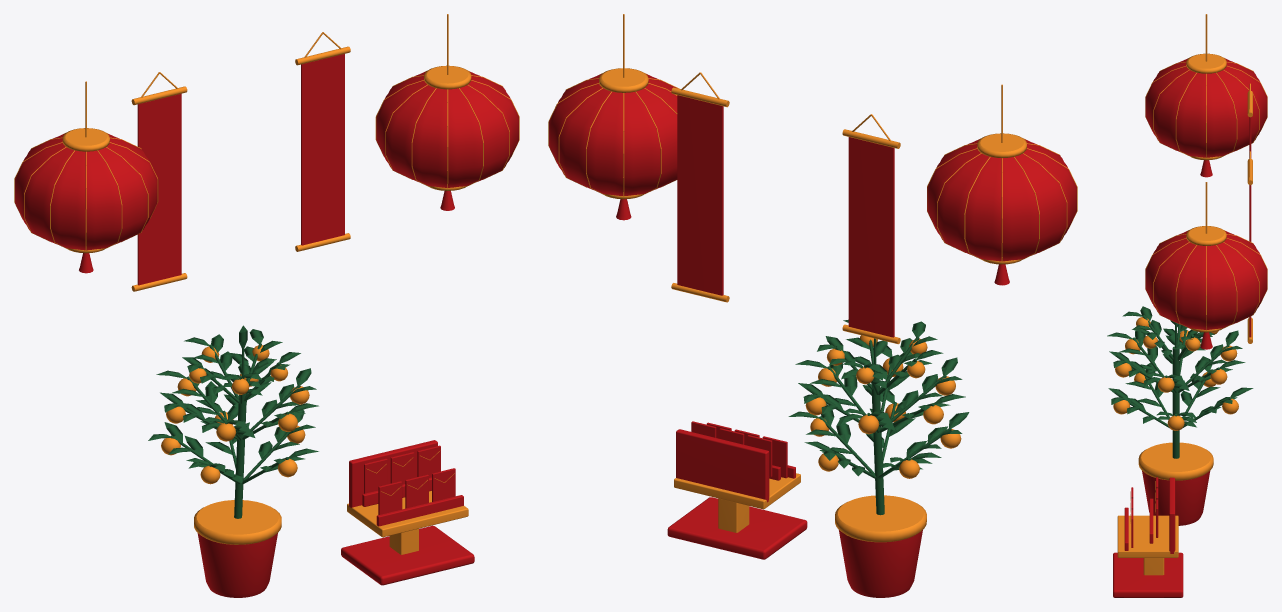
The model's file is edited.glb.
The picture shows the model from 3 angles, left to right: view 1: azimuth 30°, elevation 25°; view 2: azimuth 150°, elevation 25°; view 3: azimuth 270°, elevation 25°; orthographic projection. The views are drawn at different scales.
Visible parts, largest first — view 1: LANTERN_02, LANTERN_01, ENVELOPE_STAND, PLANT_Green, BANNER_02, BANNER_01, PLANT_Gold, PLANT_Red; view 2: LANTERN_01, LANTERN_02, ENVELOPE_STAND, PLANT_Green, BANNER_01, BANNER_02, PLANT_Gold, PLANT_Red; view 3: LANTERN_02, LANTERN_01, PLANT_Green, ENVELOPE_STAND, PLANT_Gold, PLANT_Red, BANNER_02, BANNER_01.
Boxes of the visible parts, left/top/right/bottom form: LANTERN_02: left=375, top=14, right=519, bottom=210; LANTERN_01: left=14, top=81, right=158, bottom=273; ENVELOPE_STAND: left=341, top=440, right=474, bottom=585; PLANT_Green: left=148, top=325, right=318, bottom=518; BANNER_02: left=295, top=32, right=350, bottom=251; BANNER_01: left=131, top=72, right=187, bottom=291; PLANT_Gold: left=161, top=345, right=309, bottom=544; PLANT_Red: left=197, top=533, right=277, bottom=597; LANTERN_01: left=927, top=84, right=1077, bottom=285; LANTERN_02: left=548, top=14, right=679, bottom=220; ENVELOPE_STAND: left=667, top=421, right=807, bottom=559; PLANT_Green: left=788, top=319, right=969, bottom=515; BANNER_01: left=842, top=114, right=900, bottom=344; BANNER_02: left=671, top=72, right=729, bottom=302; PLANT_Gold: left=805, top=335, right=961, bottom=542; PLANT_Red: left=839, top=530, right=922, bottom=597; LANTERN_02: left=1145, top=182, right=1267, bottom=349; LANTERN_01: left=1145, top=14, right=1267, bottom=177; PLANT_Green: left=1107, top=306, right=1253, bottom=458; ENVELOPE_STAND: left=1113, top=477, right=1183, bottom=597; PLANT_Gold: left=1113, top=317, right=1238, bottom=480; PLANT_Red: left=1142, top=471, right=1210, bottom=525; BANNER_02: left=1247, top=151, right=1252, bottom=343; BANNER_01: left=1247, top=83, right=1252, bottom=158.
Bounding box in the file's own units: 1.96 × 2.02 × 0.6637.
